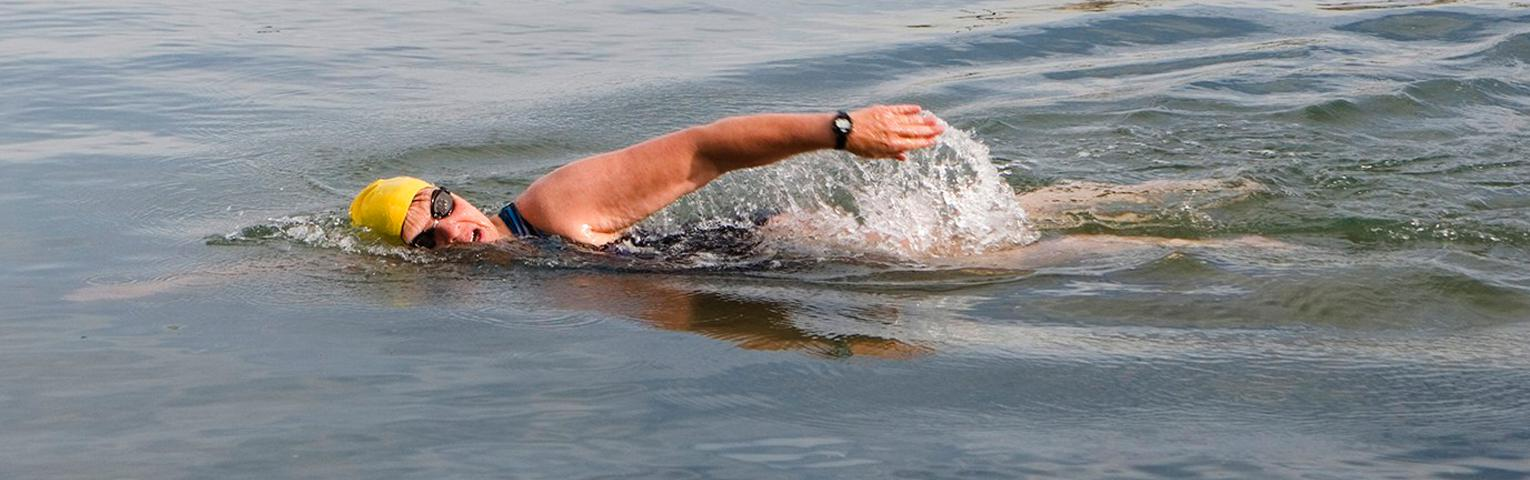swimmer: (342, 100, 1208, 288)
